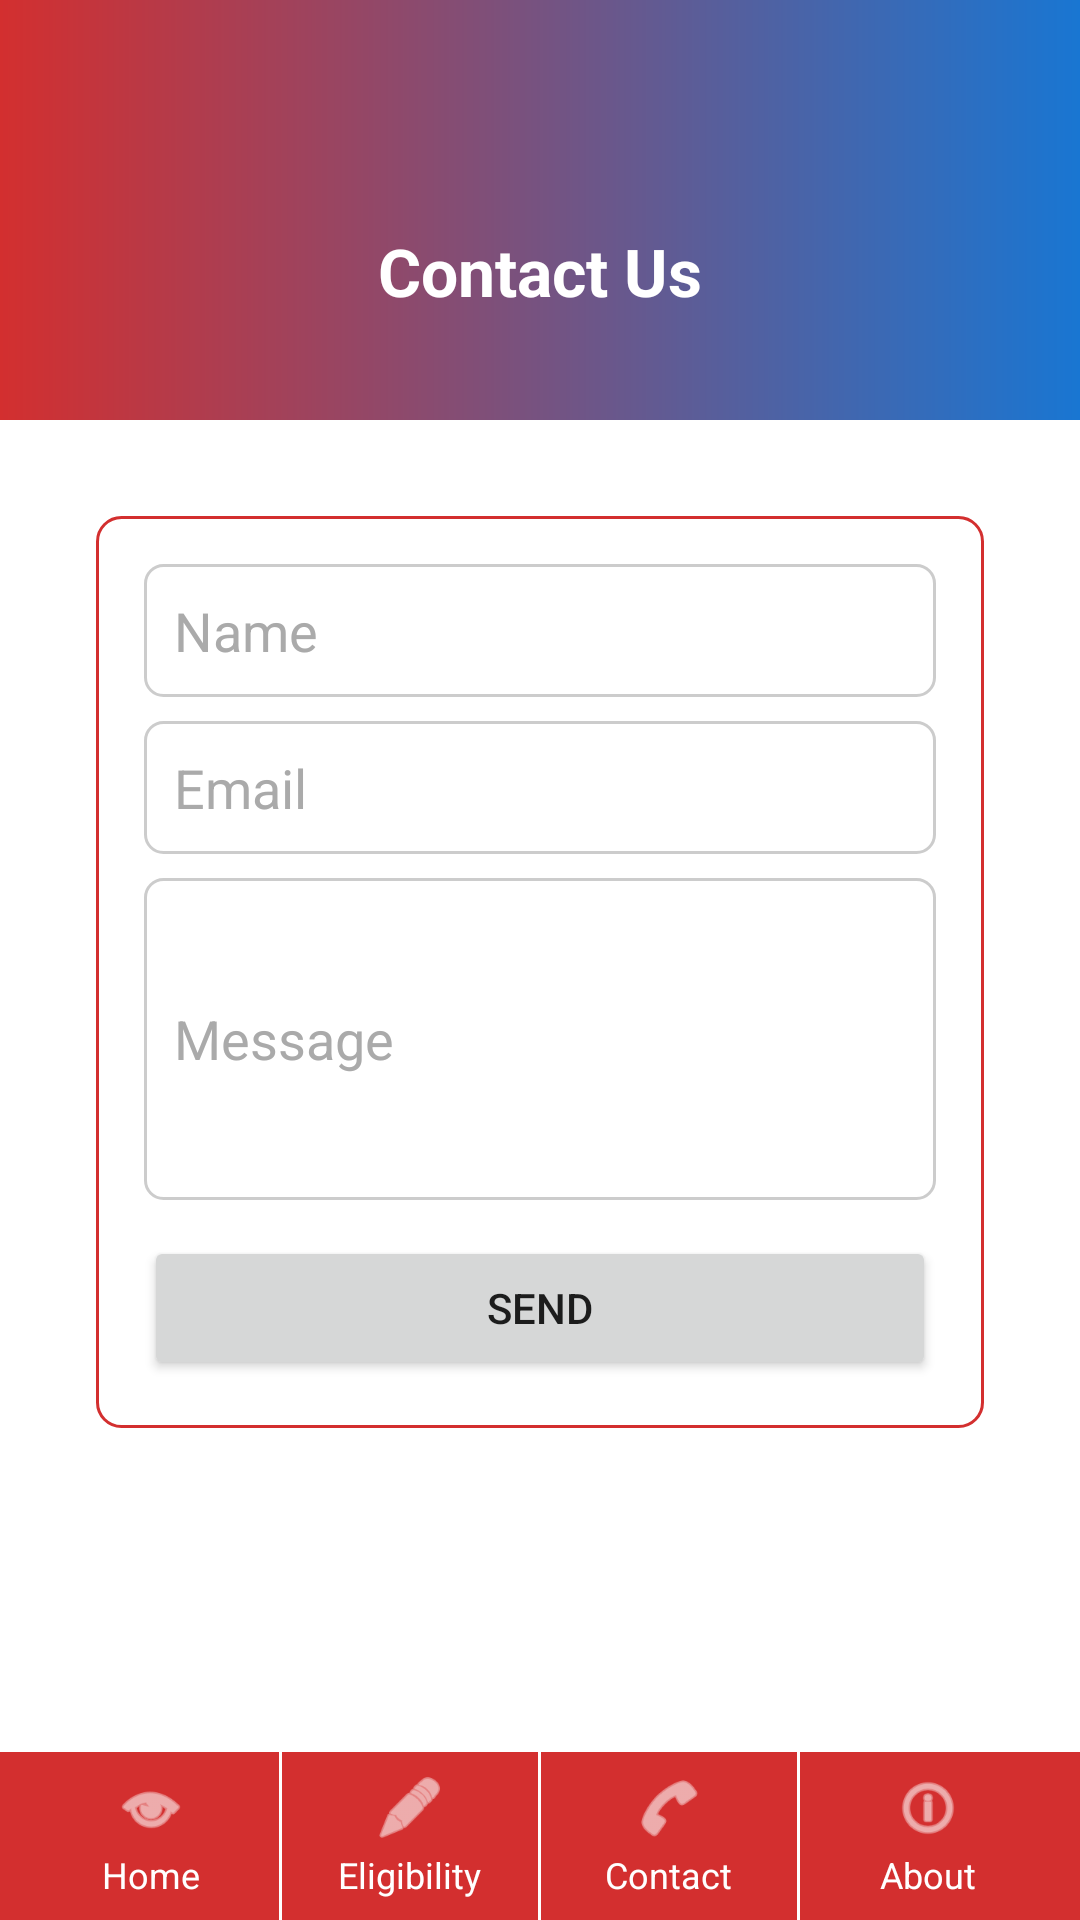

Point at icon controls on the screen. Image size 1080w x 1920h, points as [x,y].
call: [669,1808]
edit: [409,1807]
info details: [928,1808]
view: [151,1809]
